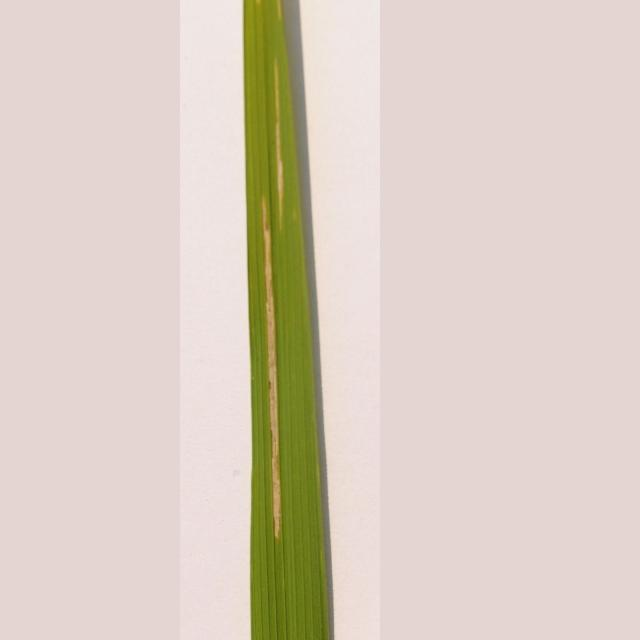Bacterial leaf blight: (180, 1, 392, 640)
